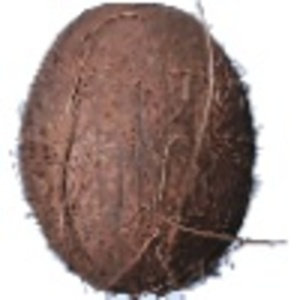coco: (13, 1, 282, 300)
